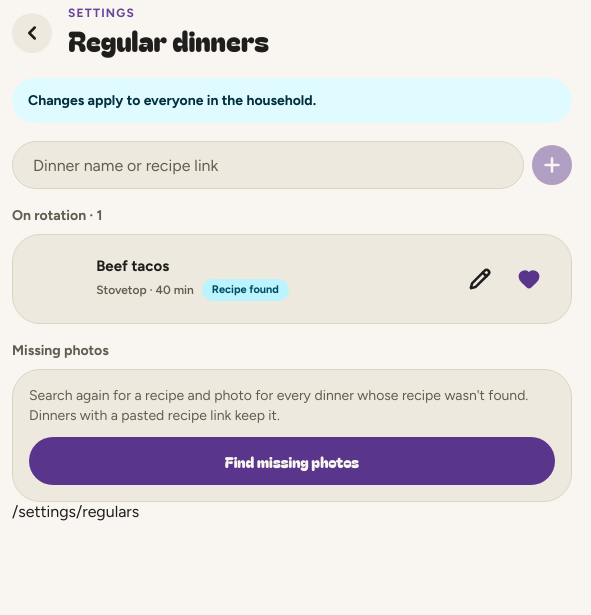
Scenario: RegularsSettingsPage › adds a Regular by name, showing it at once and finding its recipe
Check: the heading "On rotation · 1" is shown, box [12, 207, 102, 224]
In the field named "Add a Regular": (268, 165) [12, 141, 524, 189], type "  Chicken enchiladas "
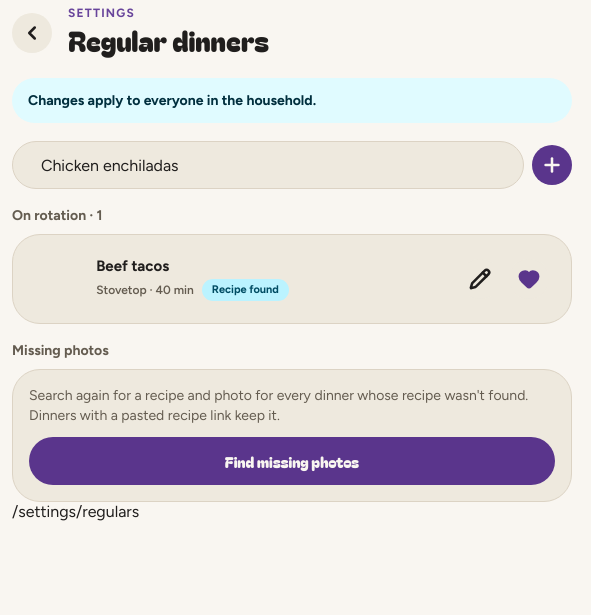
Click the button named "Add Regular": (552, 165) [530, 143, 574, 187]
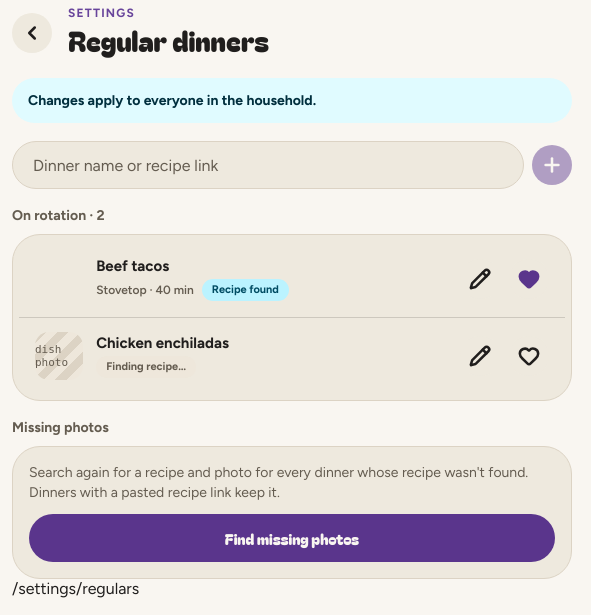
Check: the field named "Add a Regular" is empty, box [12, 141, 524, 189]
Check: the text "Chicken enchiladas" is shown, box [96, 334, 229, 352]
Check: the text "Finding recipe…" is shown, box [96, 356, 196, 378]
